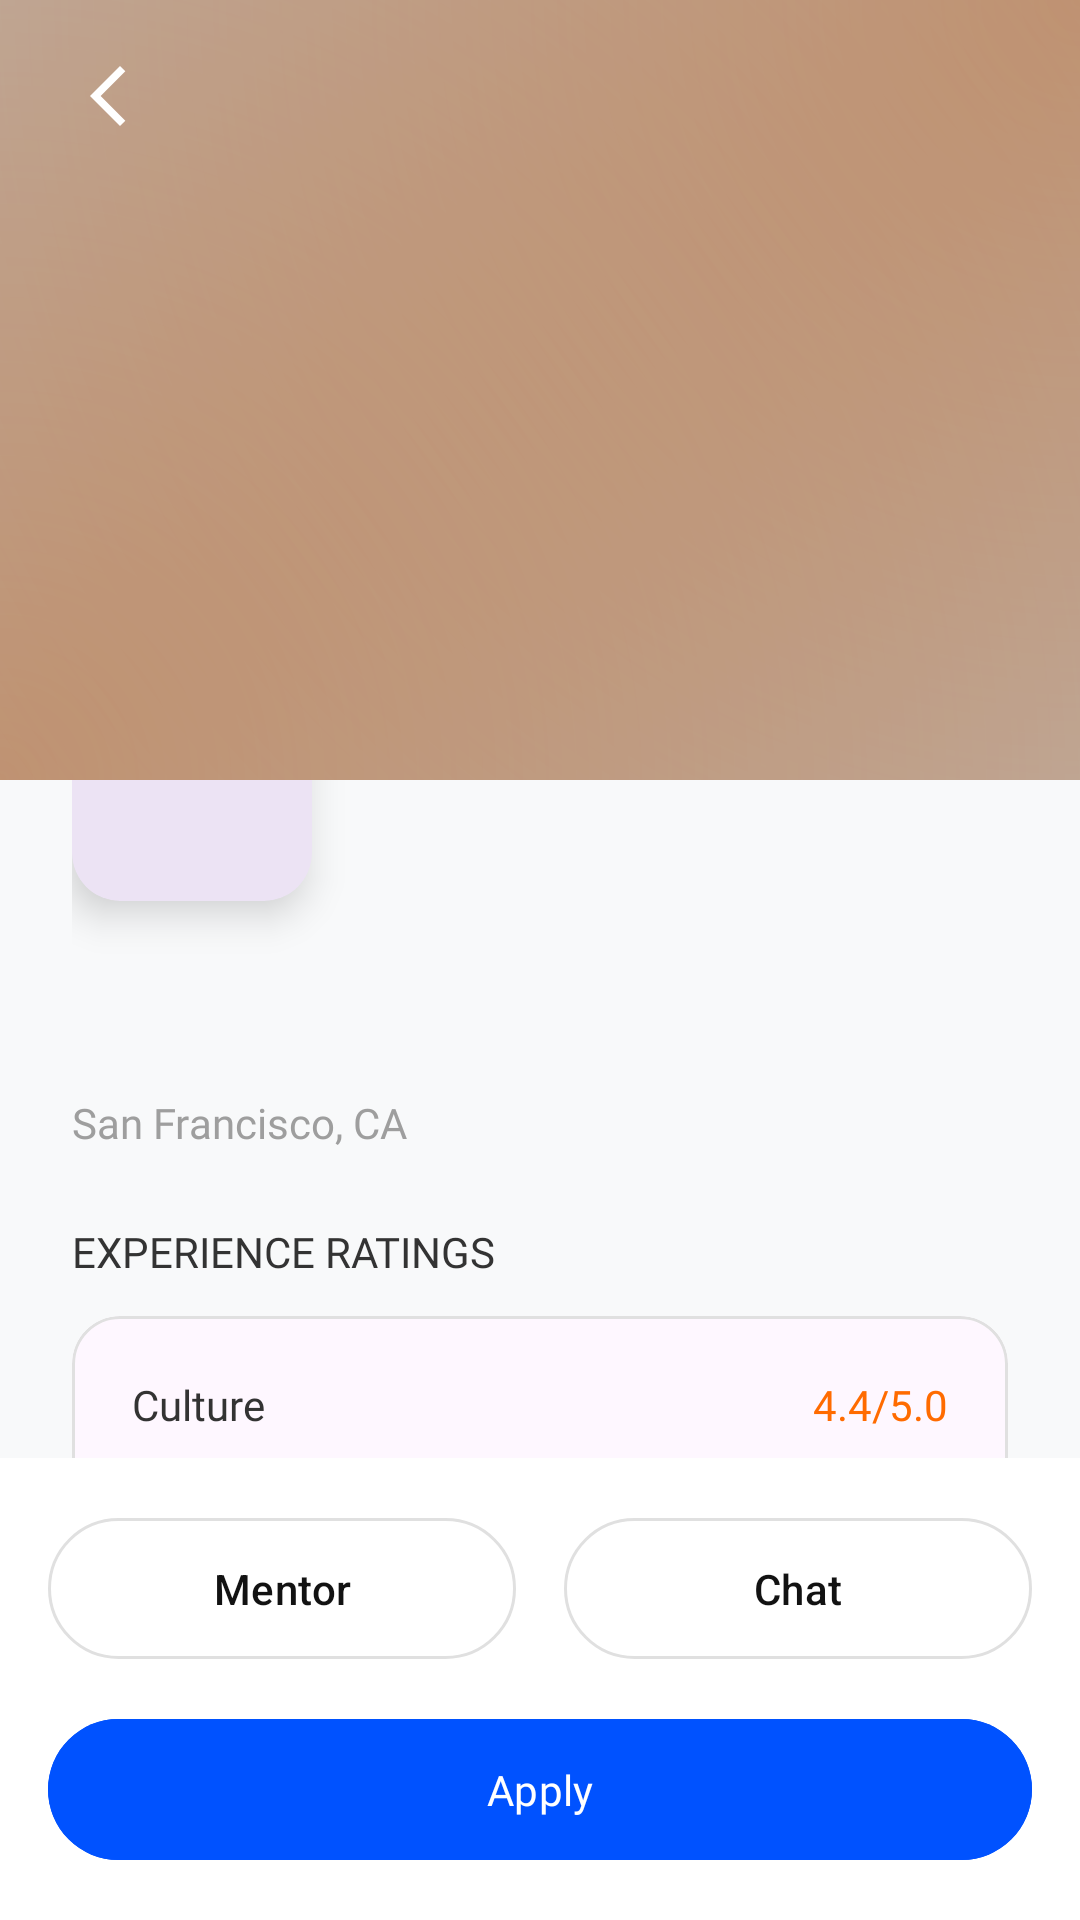

Where icons sit on this 1080px×1920px app screen, as (x1, y1, x2, y2):
arrow back: (90, 66, 125, 126)
